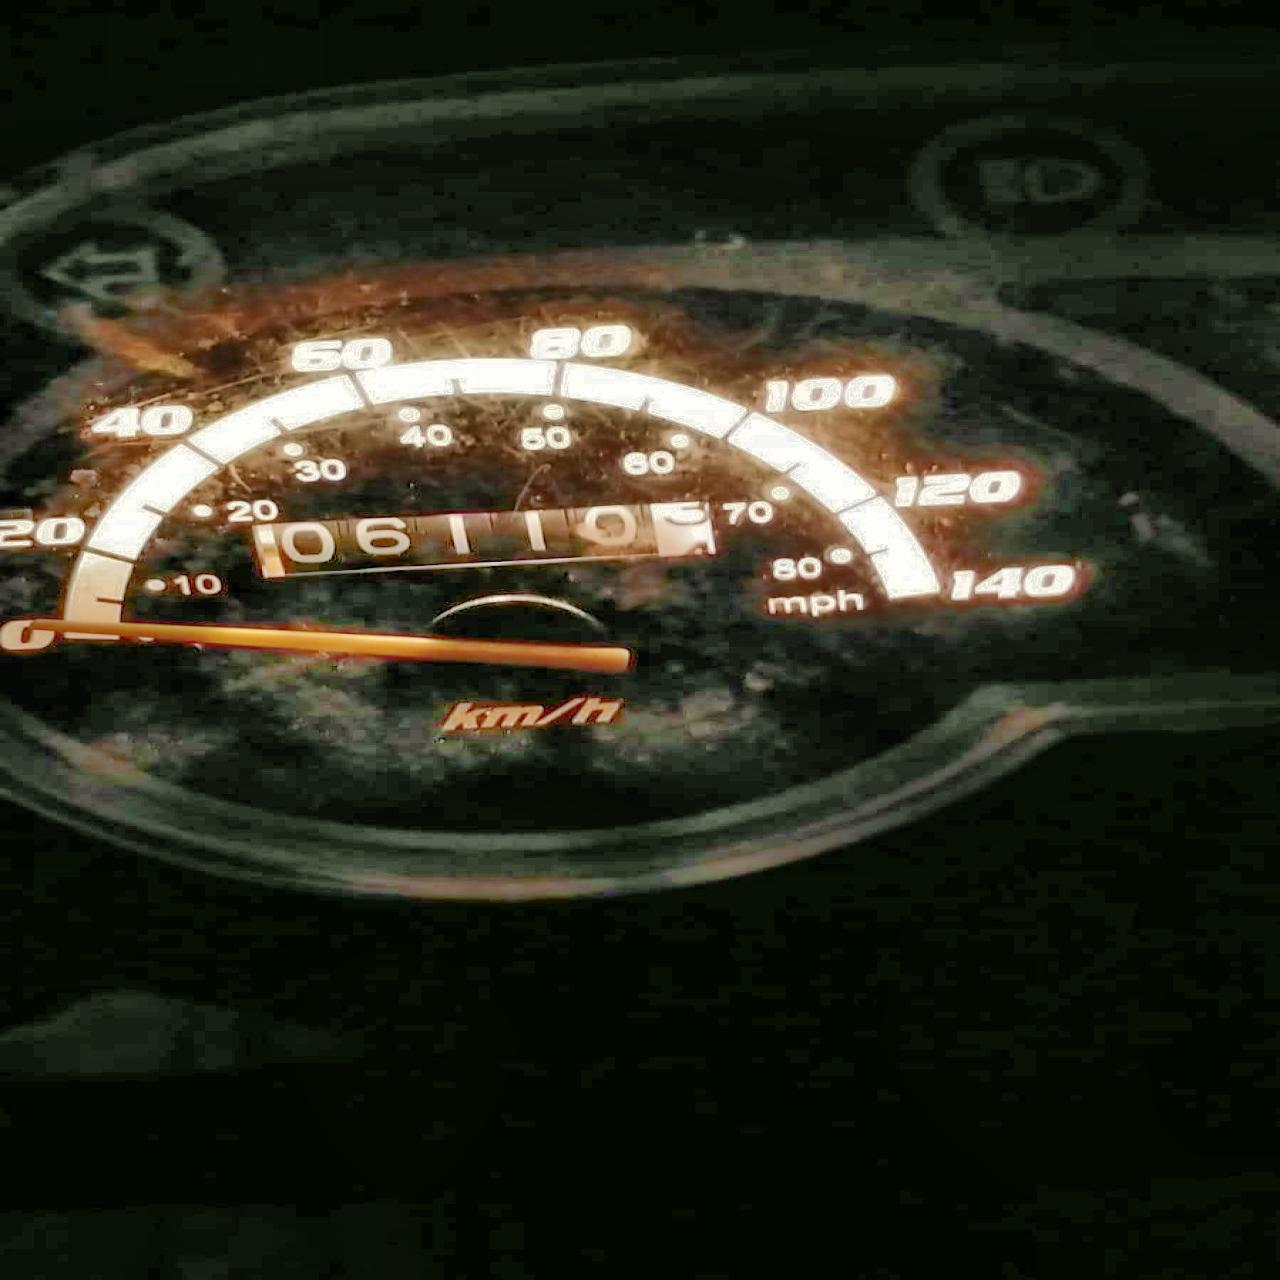0: (577, 501, 640, 549), (279, 519, 338, 565), (252, 497, 278, 522)
1: (440, 506, 481, 558), (518, 504, 552, 559)
3: (661, 496, 713, 533)
6: (352, 515, 413, 561)
odometer: (248, 498, 723, 579)
